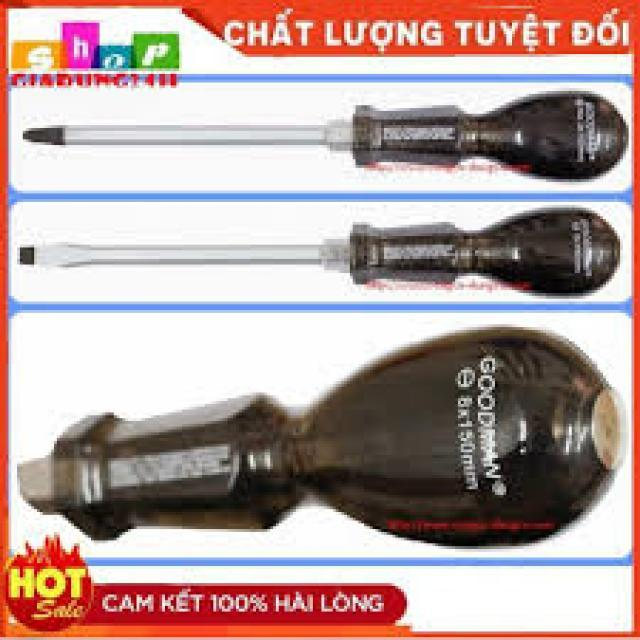screwdriver: (16, 85, 633, 188), (14, 205, 623, 302)
